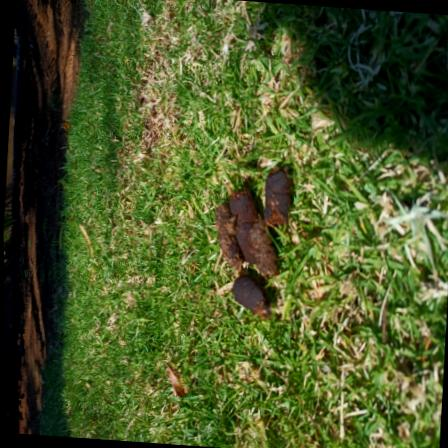dog-poop: (200, 138, 305, 328)
